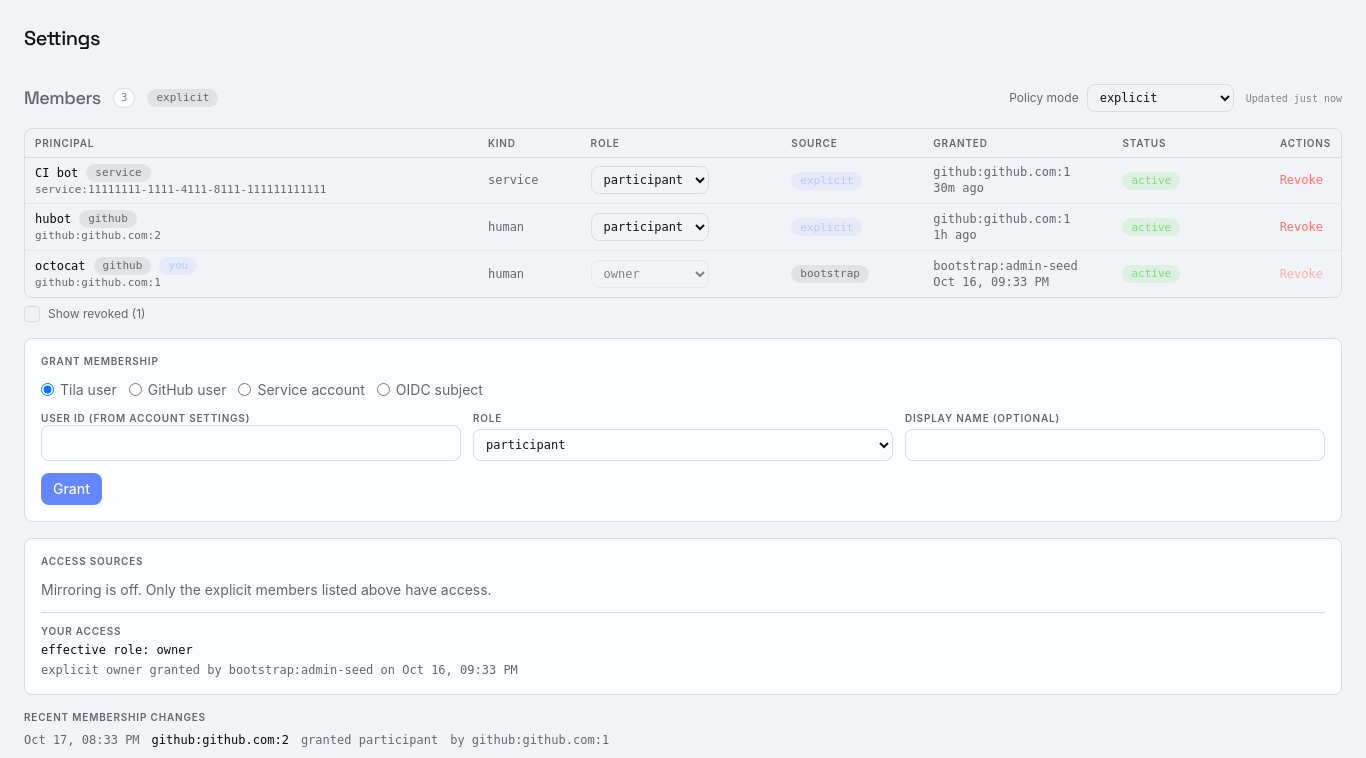
Test: SettingsPage › revoked memberships appear only after opting in
Expected: the text "octocat" is shown, [35,258,86,274]
Expected: the text "alice" is not shown
Click the checkbox named "Show revoked": [32, 314] box [24,306,40,322]
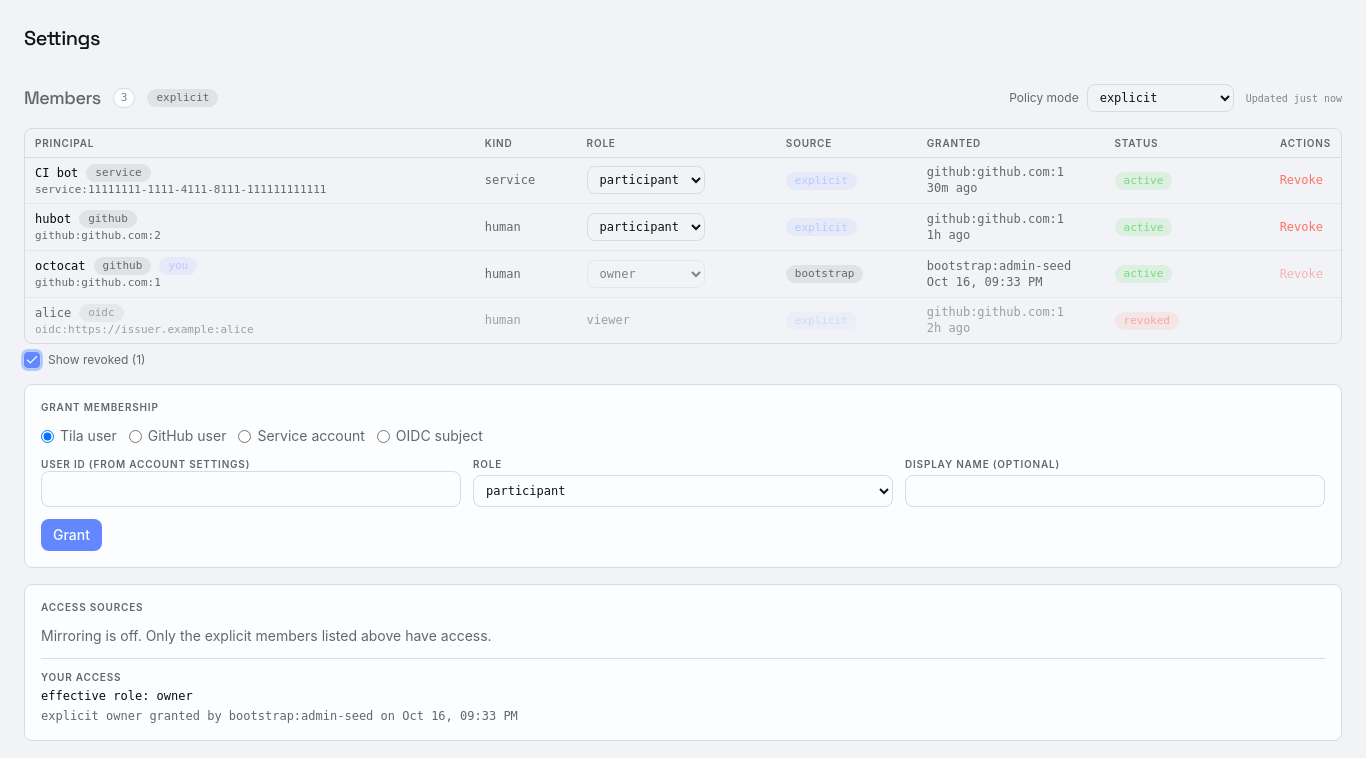
Expected: the text "alice" is shown, [35,305,71,321]
Expected: the text "revoked" is shown, [1114,312,1179,330]
